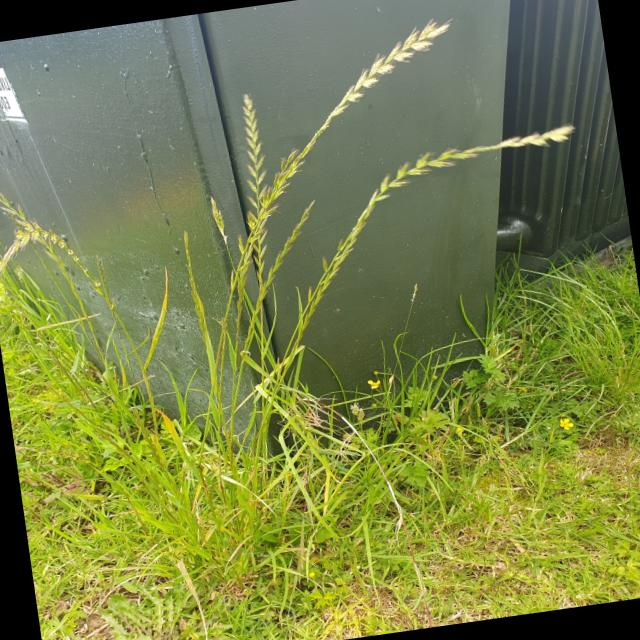Lolium: (156, 17, 501, 443), (213, 125, 603, 442)
